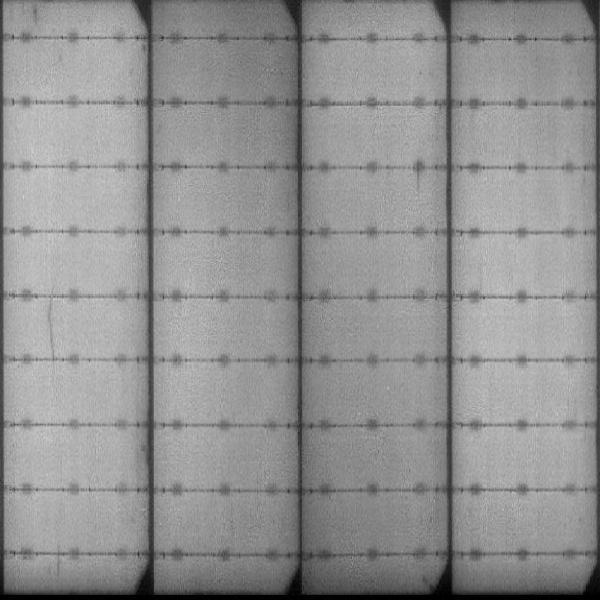scratch: (42, 295, 60, 366), (416, 157, 427, 197)
